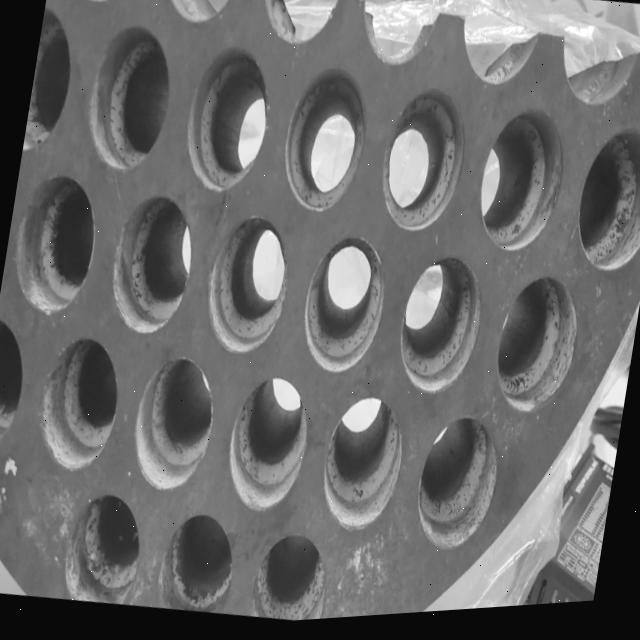Hole: (78, 19, 180, 181), (178, 41, 280, 203), (276, 63, 376, 224), (472, 107, 572, 266), (373, 86, 473, 245), (5, 167, 104, 323), (392, 253, 491, 407), (198, 211, 296, 365), (103, 190, 201, 343), (296, 233, 394, 386), (489, 274, 586, 427), (32, 329, 128, 479), (126, 351, 222, 500), (220, 374, 316, 523), (410, 415, 506, 563), (316, 393, 410, 544), (59, 487, 150, 611), (569, 129, 640, 286), (154, 508, 241, 621), (22, 4, 82, 157), (248, 529, 335, 627), (0, 313, 33, 453)
